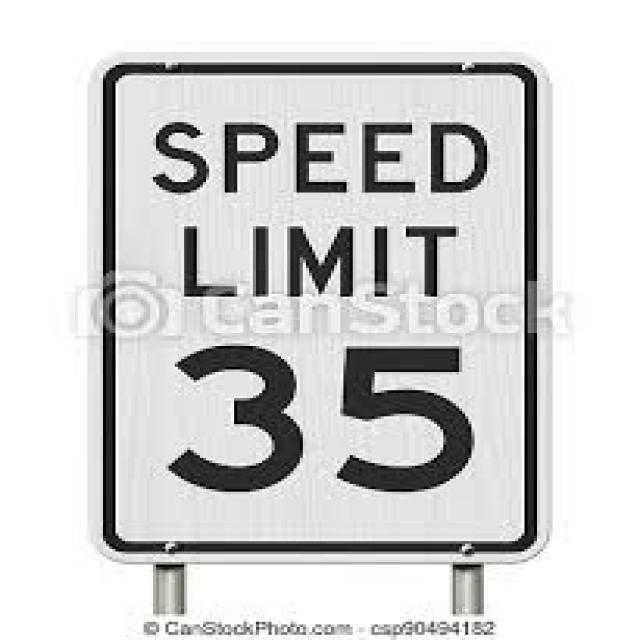speedLimit35: (94, 65, 543, 572)
